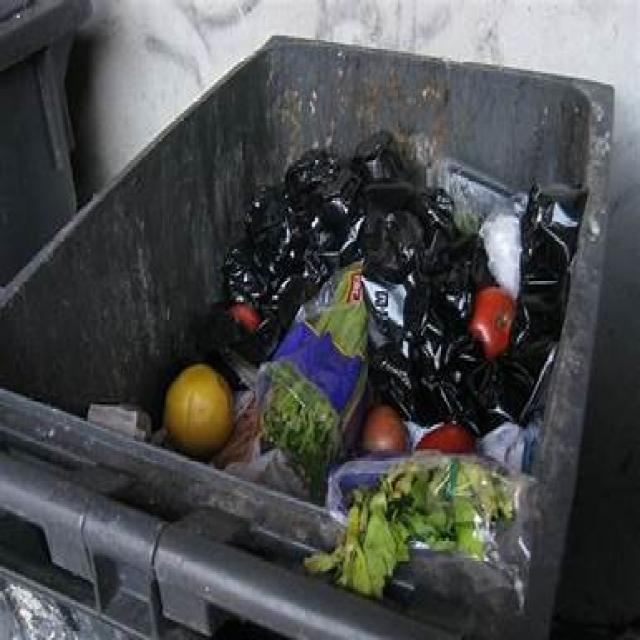Garbage: (88, 132, 586, 597)
Plastic: (214, 132, 583, 435)
Plastic_Bag: (328, 452, 534, 614), (270, 261, 368, 458), (479, 213, 521, 299), (260, 362, 270, 409)
